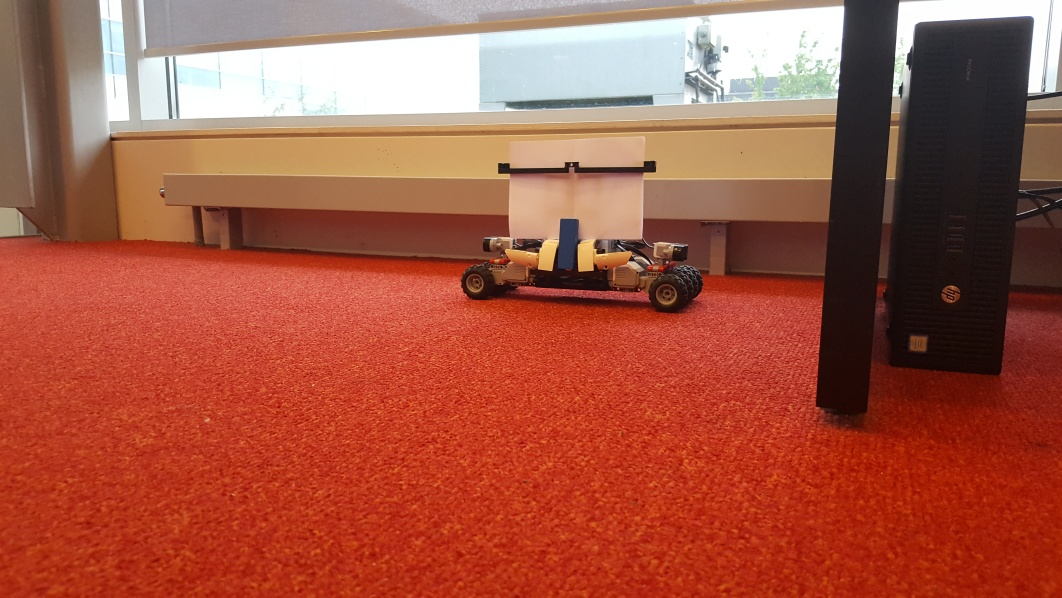car: (460, 137, 705, 312)
